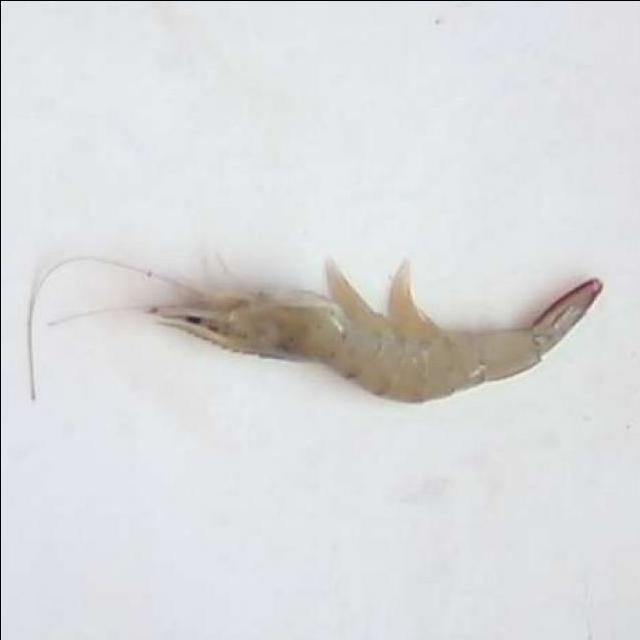shrimp: (148, 260, 603, 402)
